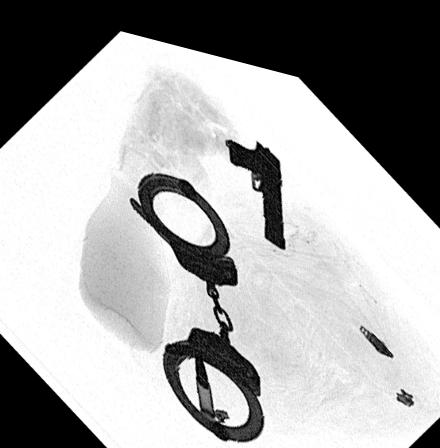Bullet: (194, 339, 214, 404)
Gun: (225, 121, 285, 235)
HandCuffs: (125, 160, 263, 431)
